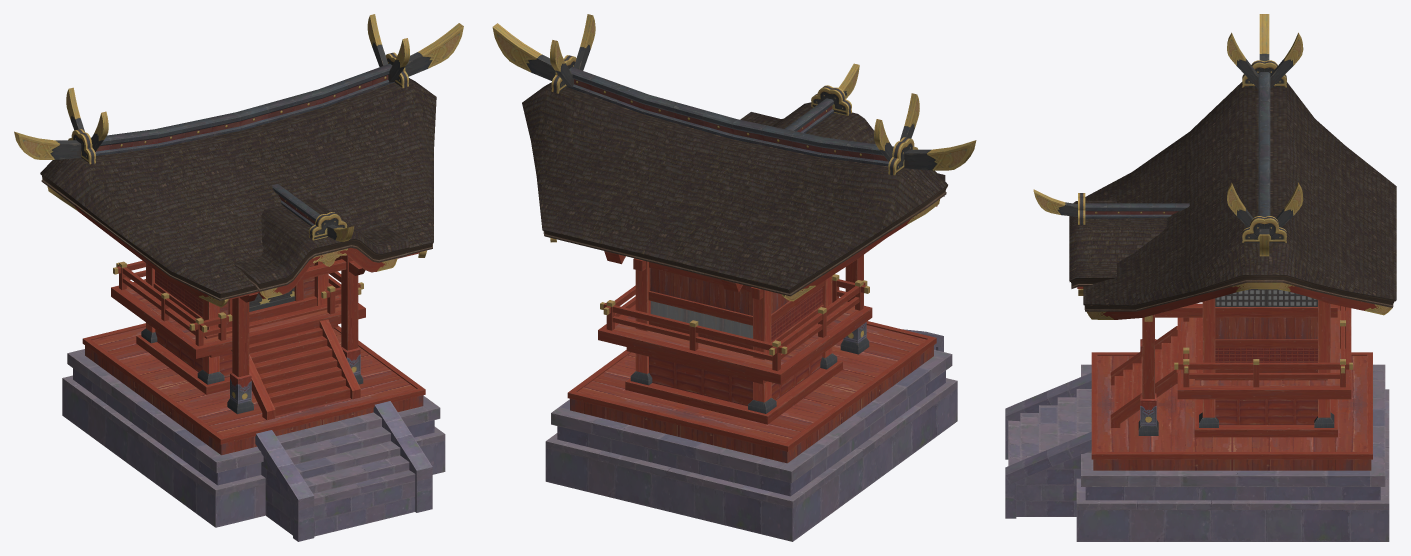
File: Homeworld_Exterior_Dq_Build_Shrine_01_Lod0.fbx
The picture shows the model from 3 angles, left to right: view 1: azimuth 30°, elevation 25°; view 2: azimuth 150°, elevation 25°; view 3: azimuth 270°, elevation 25°; orthographic projection. The views are drawn at different scales.
Parts seen in each view (by area): view 1: Area_Dq_Build_MS_ShenShe_03_Lod0; view 2: Area_Dq_Build_MS_ShenShe_03_Lod0; view 3: Area_Dq_Build_MS_ShenShe_03_Lod0.
Boxes of the visible parts, <box> form: Area_Dq_Build_MS_ShenShe_03_Lod0: <box>14,14,463,541</box>; Area_Dq_Build_MS_ShenShe_03_Lod0: <box>492,14,976,541</box>; Area_Dq_Build_MS_ShenShe_03_Lod0: <box>1005,14,1396,541</box>.
Bounding box in the file's own units: 7.69 × 6.09 × 5.74.
